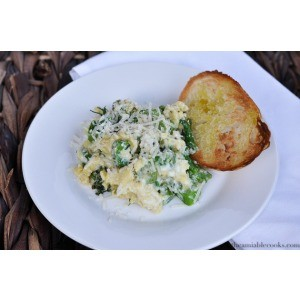egg_brain food: (86, 101, 178, 209)
